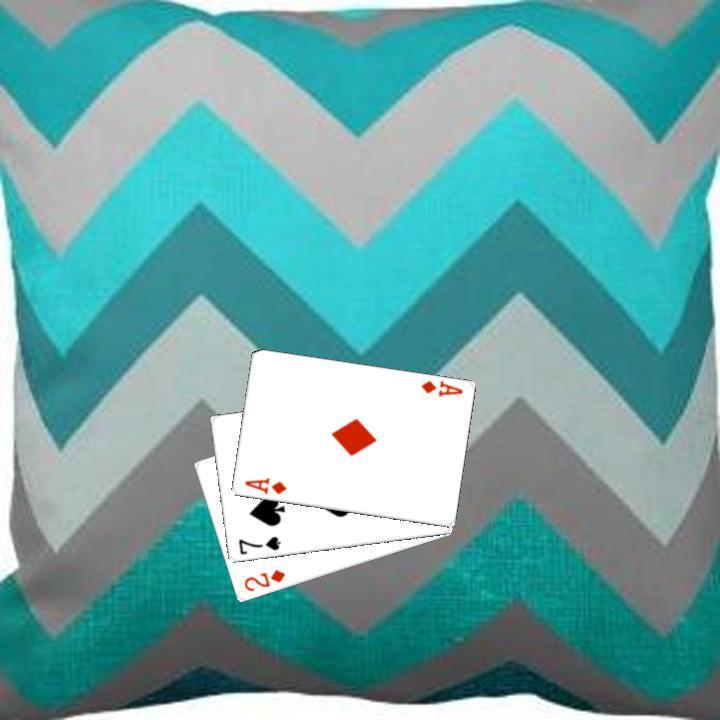2: (239, 565, 287, 594)
7: (234, 533, 282, 557)
A: (416, 376, 464, 399), (240, 474, 288, 496)
